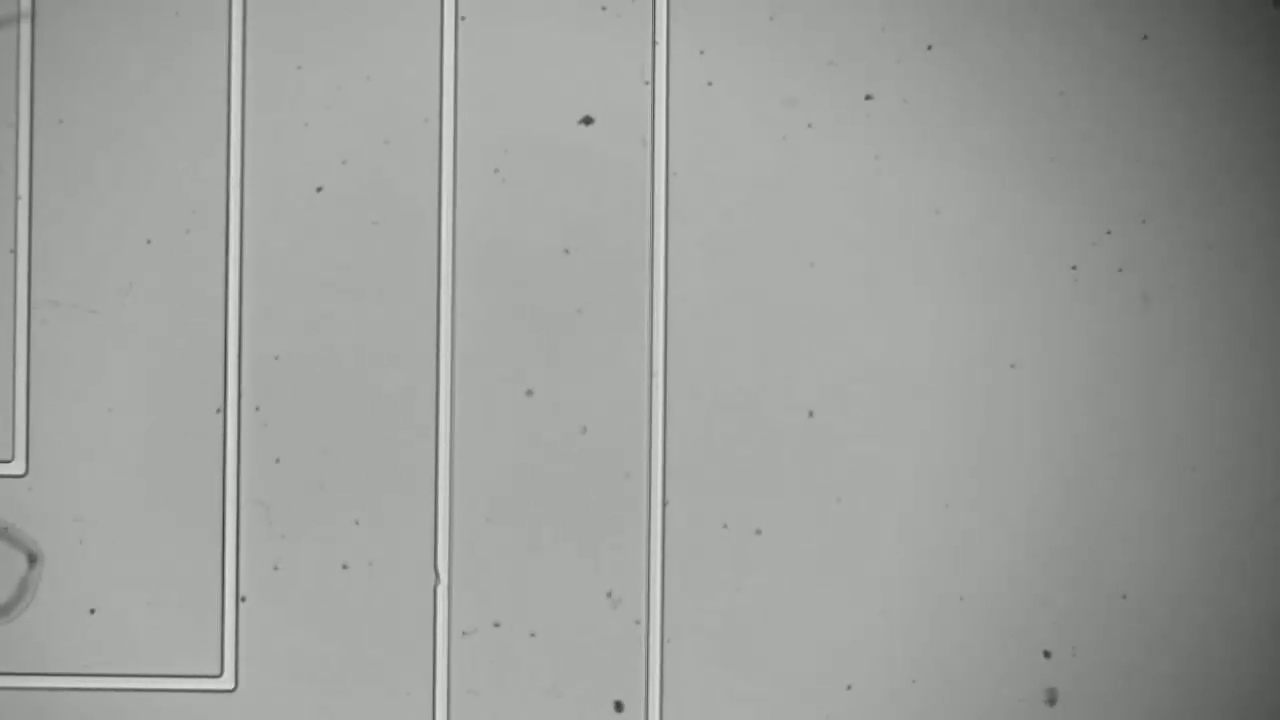edge_bite: (427, 557, 458, 597)
